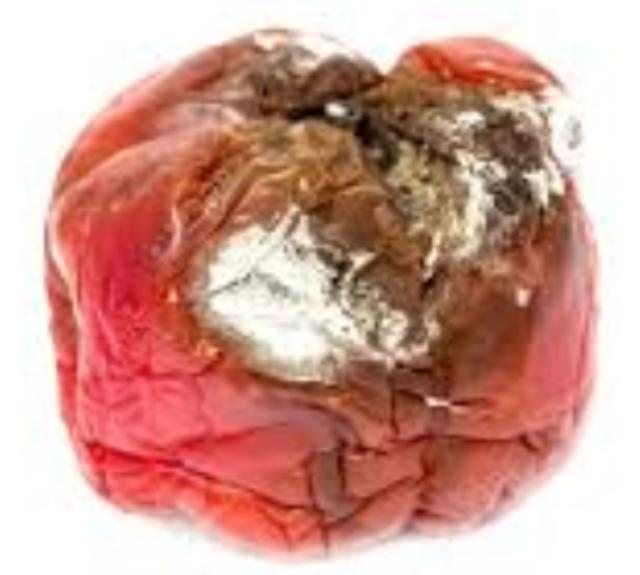defect: (39, 18, 603, 562)
